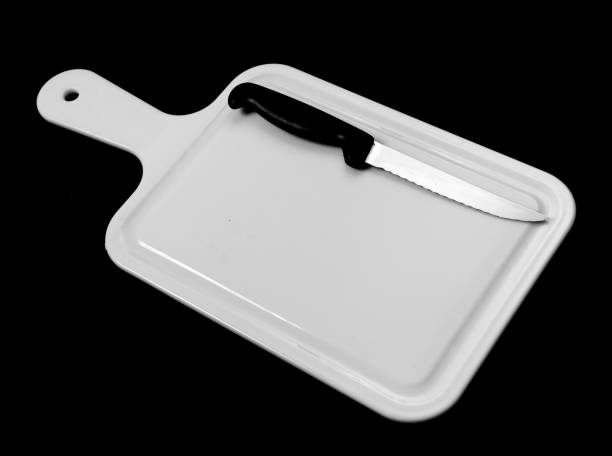k1: (328, 114, 557, 229)
